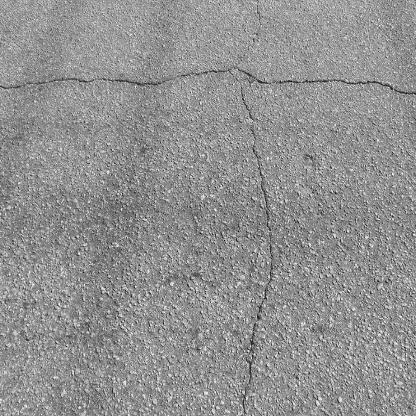Cracks: (0, 63, 416, 102), (239, 79, 277, 416), (254, 0, 266, 8)
